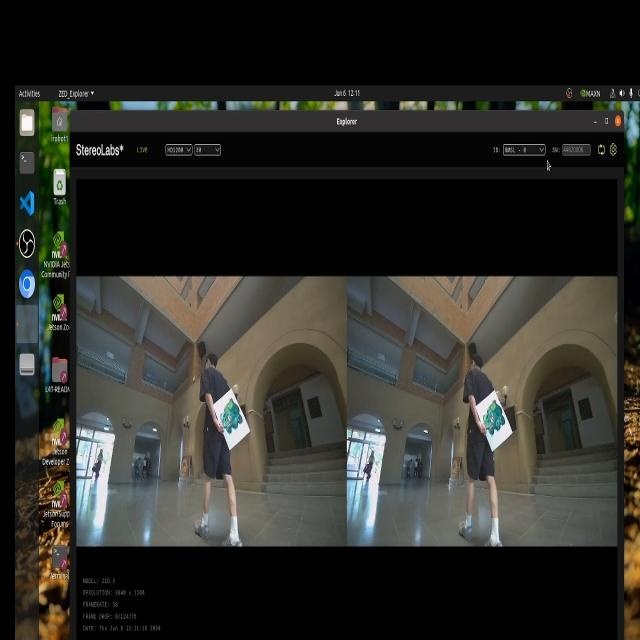green: (478, 402, 512, 439), (220, 385, 244, 433)
